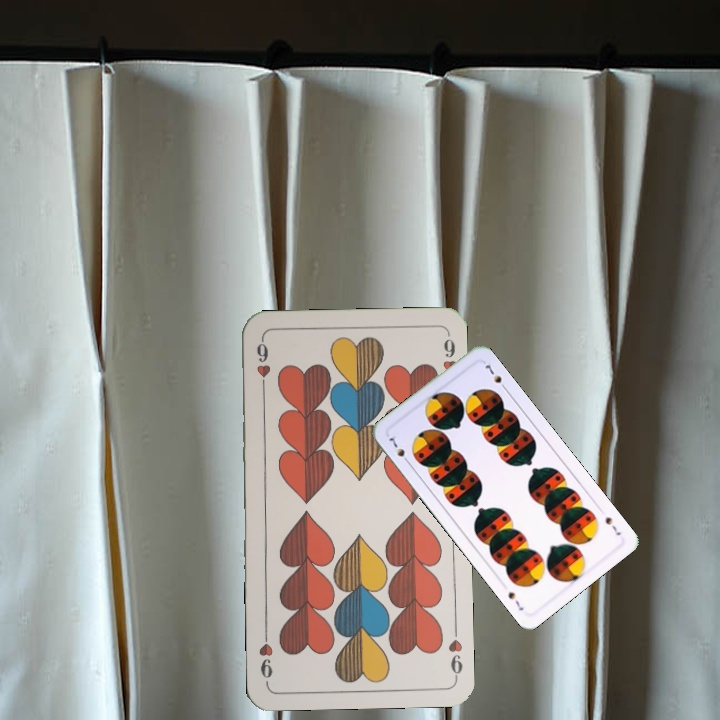H9: (252, 335, 274, 394), (444, 621, 465, 680)
S7: (384, 431, 413, 467), (601, 512, 624, 538)
